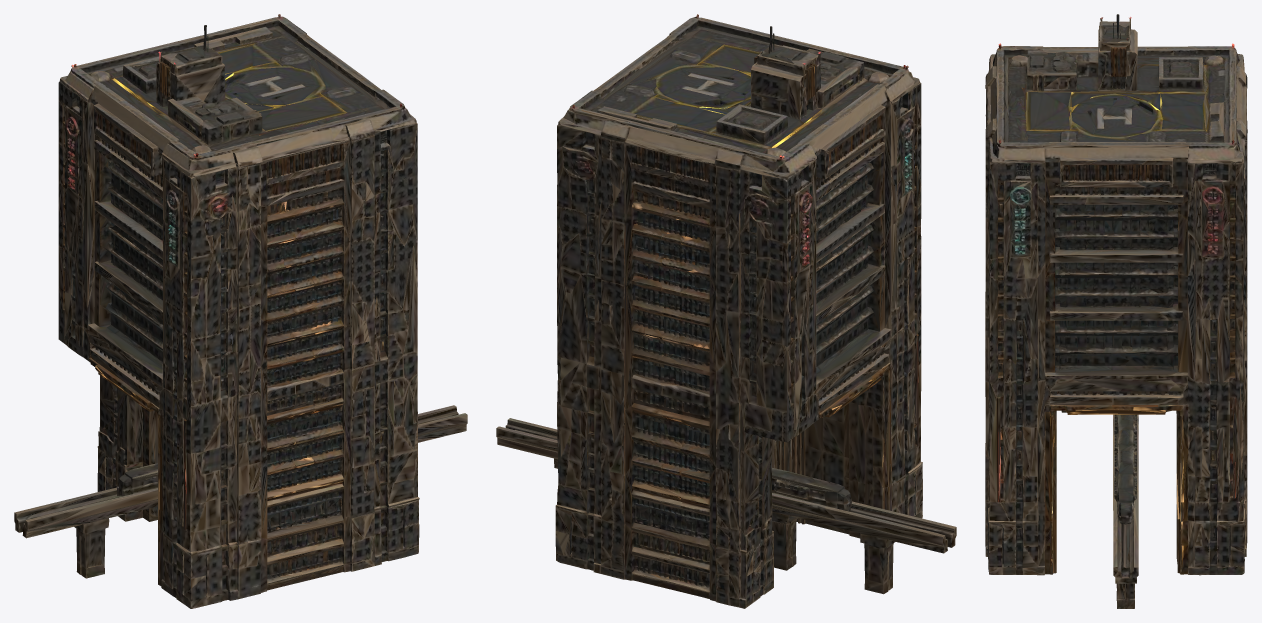
3 views of the same model, side by side, from view 1: azimuth 30°, elevation 25°; view 2: azimuth 150°, elevation 25°; view 3: azimuth 270°, elevation 25° (orthographic). The views are drawn at different scales.
Parts seen in each view (by area): view 1: m06; view 2: m06; view 3: m06.
Boxes of the visible parts, bbox=[...] form: m06: bbox=[14, 14, 467, 608]; m06: bbox=[496, 14, 956, 608]; m06: bbox=[985, 14, 1247, 608].
Size of the model in its own units: 176 by 200 by 94.91.
Materials: 1 (1 with a texture image).
